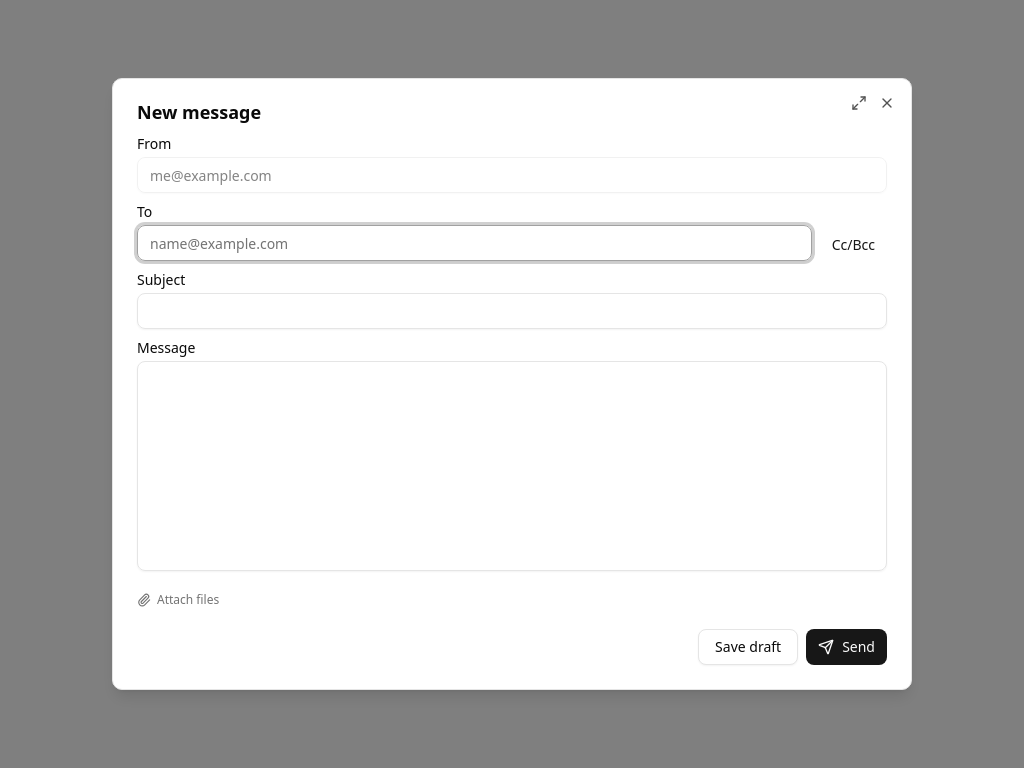
Scenario: ComposeDialog: maximize / restore › Maximize covers the screen, Restore brings the window back
Click the button named "Maximize" at (859, 103), box [851,95,867,111]
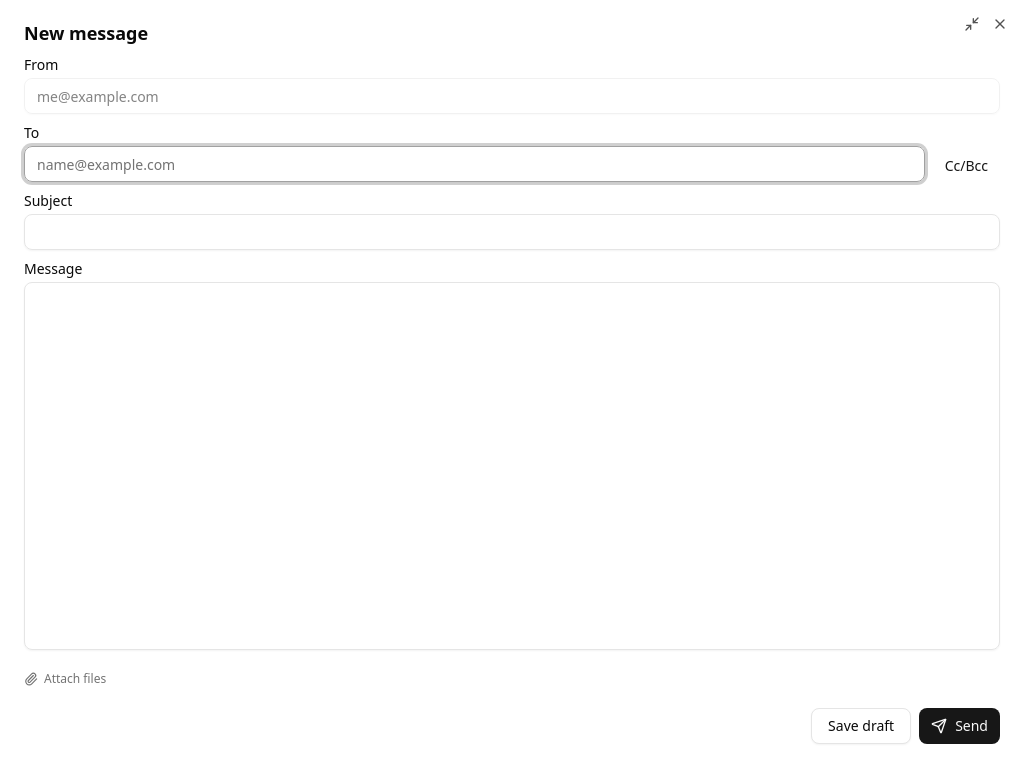
Check: the dialog has class "w-screen"
Check: the dialog has class "h-dvh"
Click the button named "Restore" at (972, 24), box [964,16,980,32]
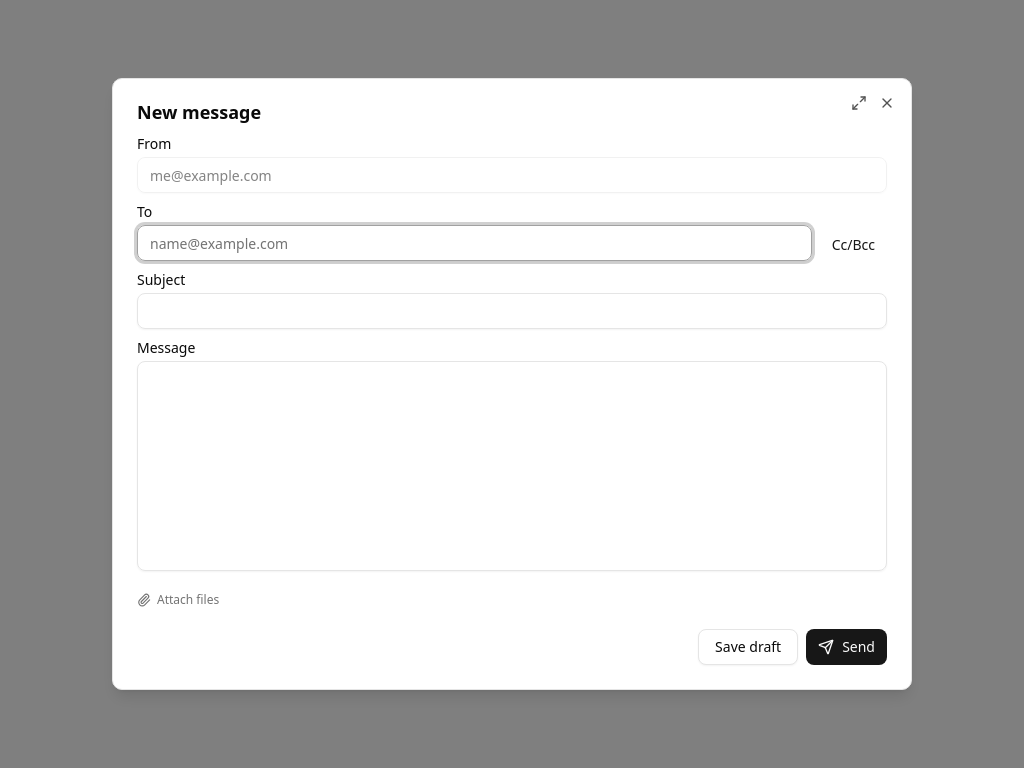
Check: the button named "Maximize" is shown, box [851,95,867,111]
